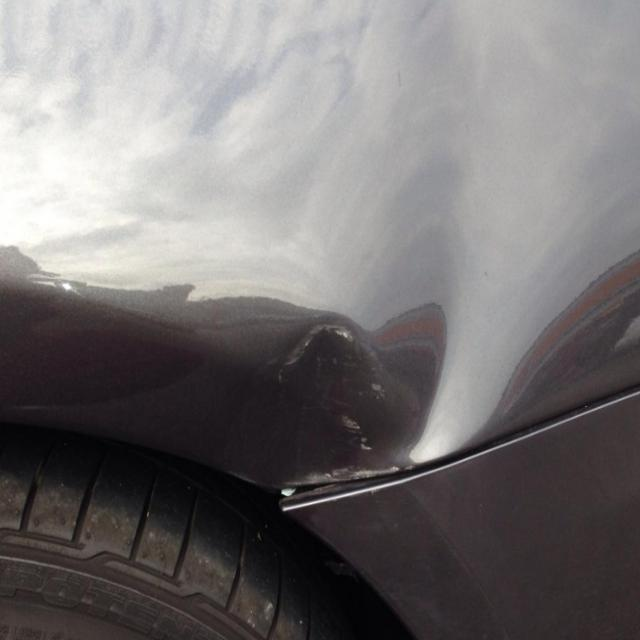dents: (333, 225, 503, 482)
